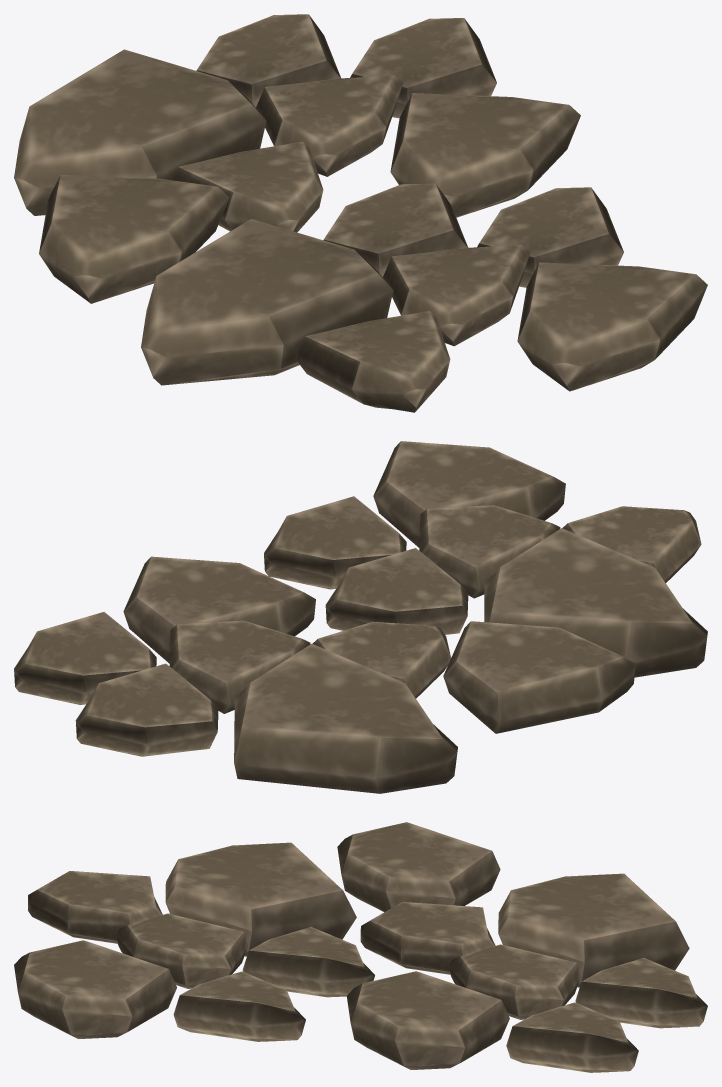
The model's file is Stones_Moisture.fbx.
The picture shows the model from 3 angles, top to bottom: view 1: azimuth 30°, elevation 25°; view 2: azimuth 150°, elevation 25°; view 3: azimuth 270°, elevation 25°; orthographic projection. The views are drawn at different scales.
Parts seen in each view (by area): view 1: rubble_medium027; view 2: rubble_medium027; view 3: rubble_medium027.
Part boxes in pixels (<box>): rubble_medium027: <box>14,14,707,412</box>; rubble_medium027: <box>14,441,707,793</box>; rubble_medium027: <box>14,822,707,1072</box>.
Bounding box in the file's own units: 203 × 33.09 × 273.
